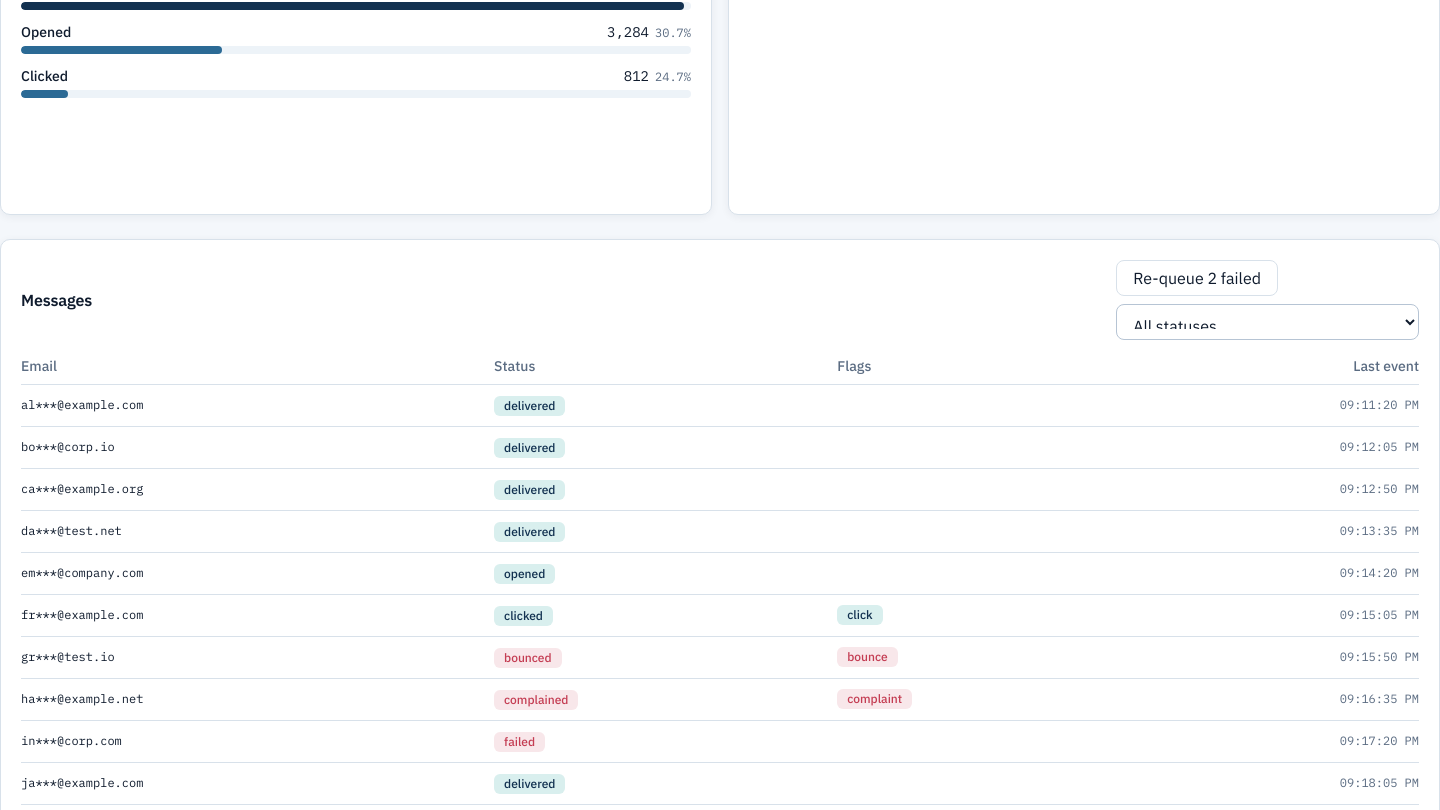
CampaignMonitor › opens drawer when a message row is clicked
The image size is (1440, 810).
(page scrolled)
Click the button "al***@example.com delivered 09:11:20 PM" at (82, 405), box [21,384,1419,426]
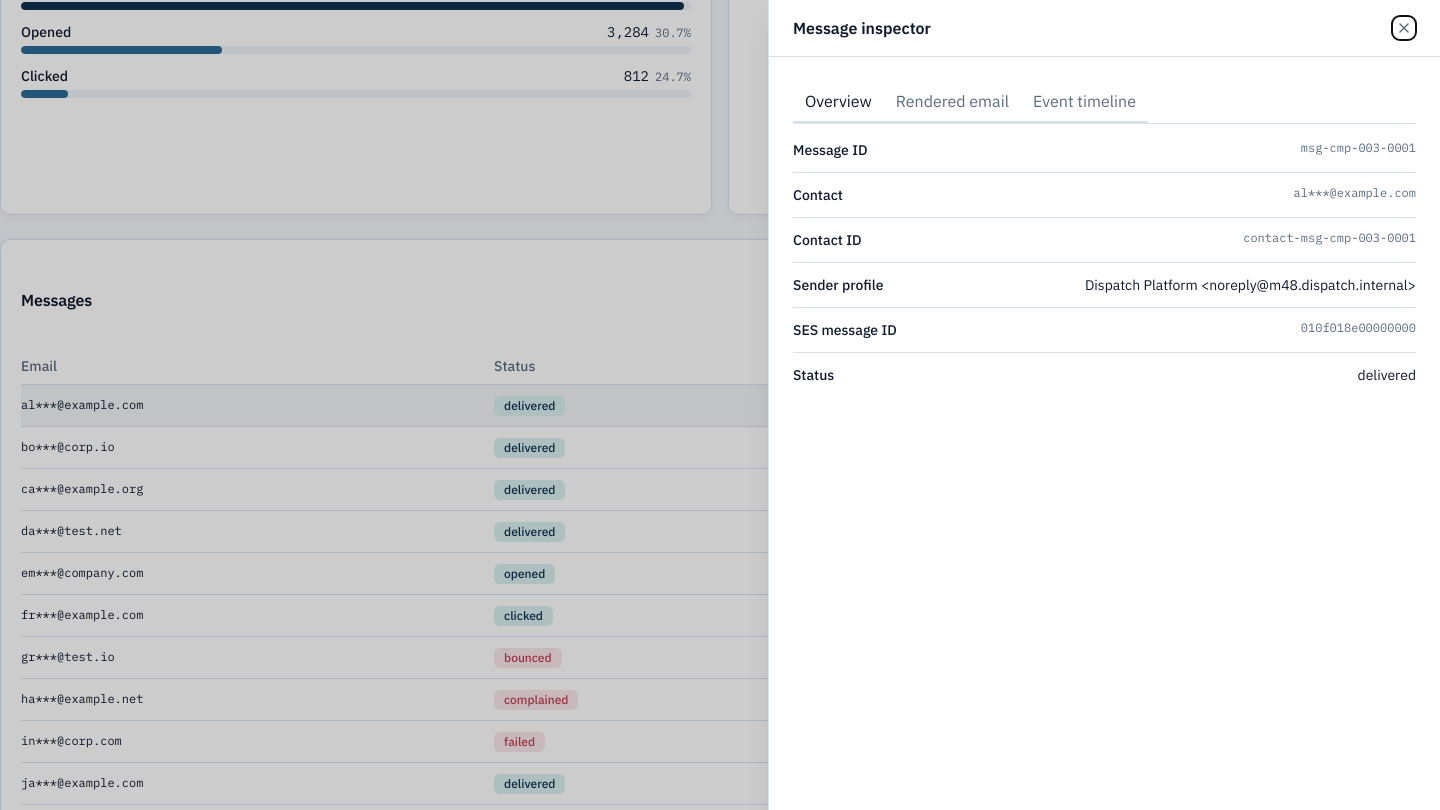
Now the heading "Message inspector" is shown, box [793,16,931,40]
